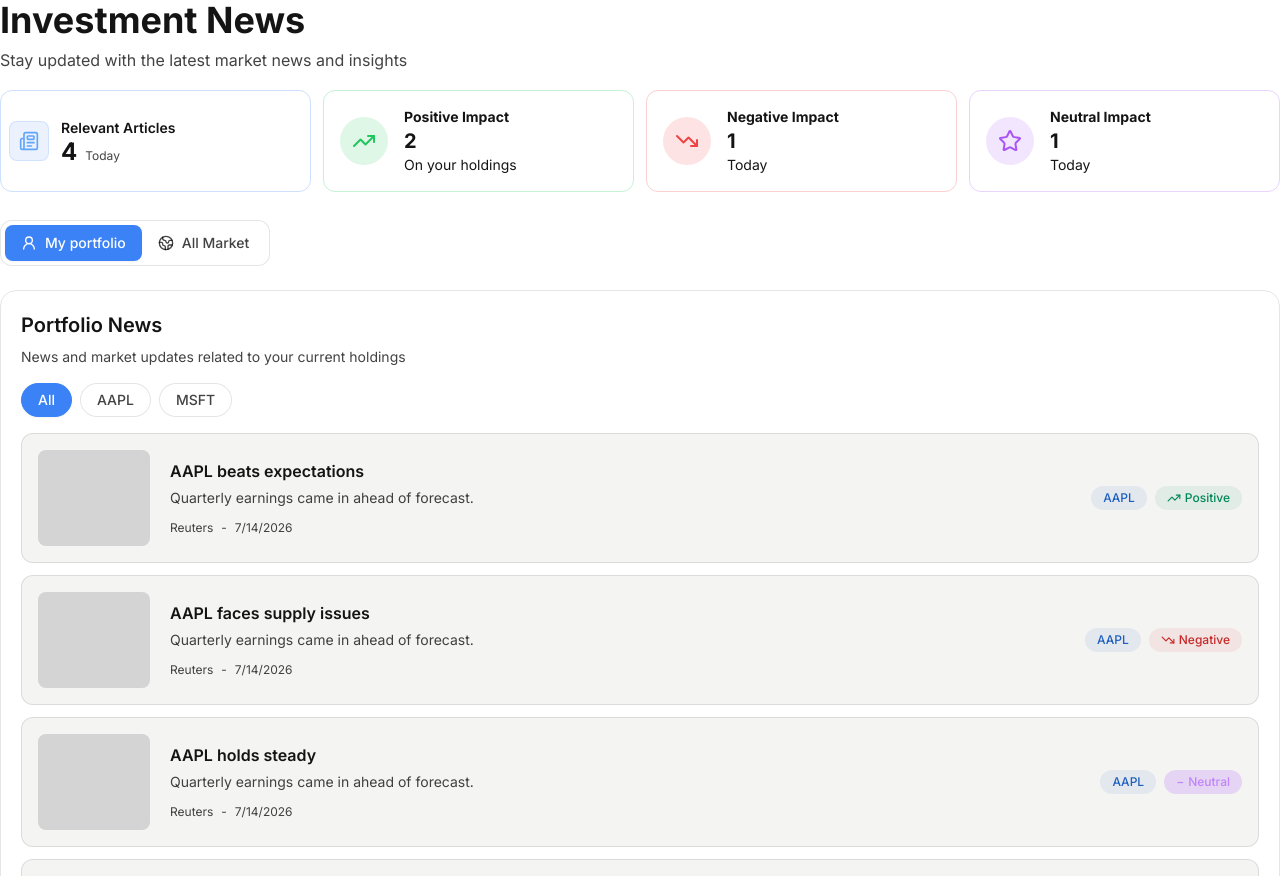
News page › now switches to the market tab and swaps thel heading
Expected: the heading "Portfolio News" is shown, [21,313,162,337]
What coordinates should you click on to do the following:
click the button "All Market"
I would click on:
 (204, 243)
Its box is [142,225,265,261].
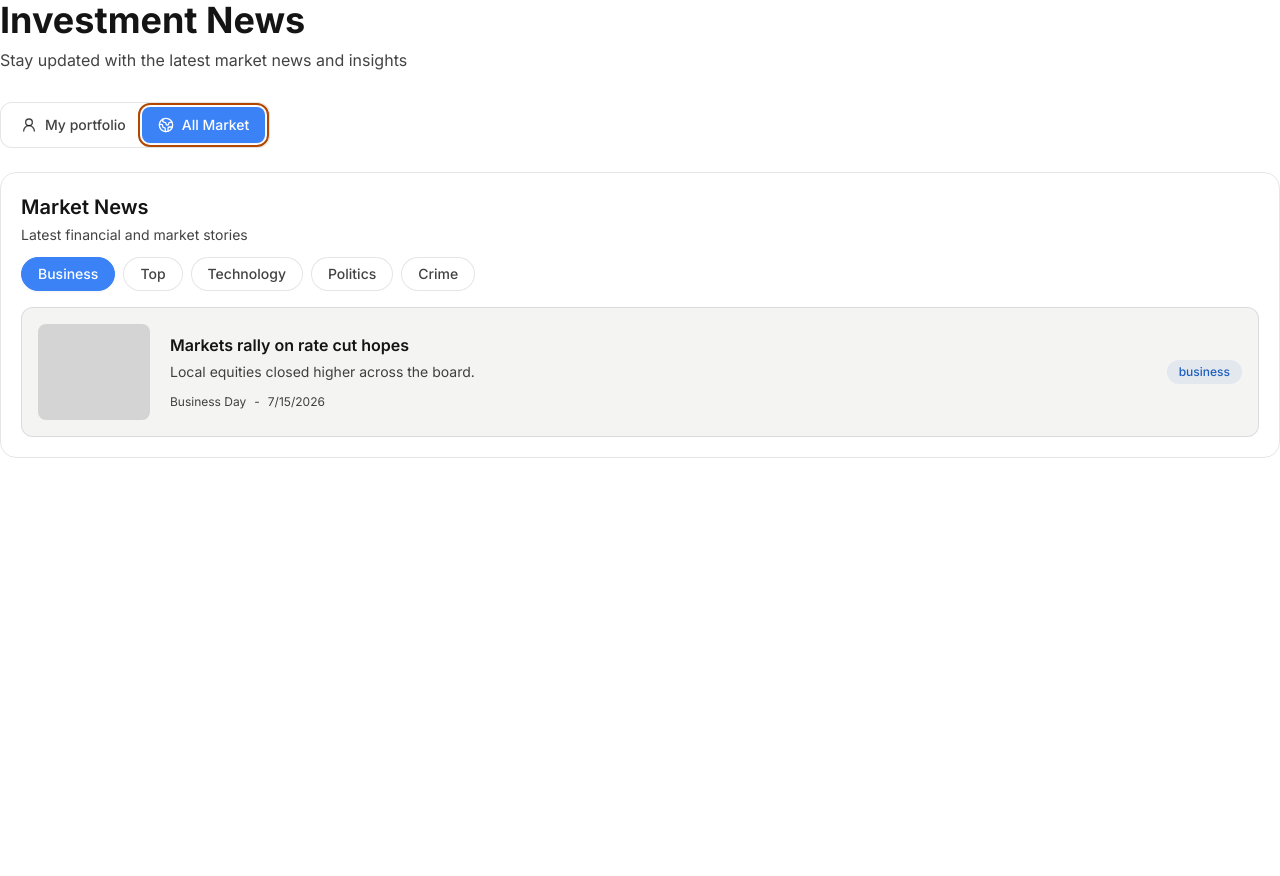
Now the heading "Market News" is shown, box [21,195,148,219]
Now the heading "Portfolio News" is gone
